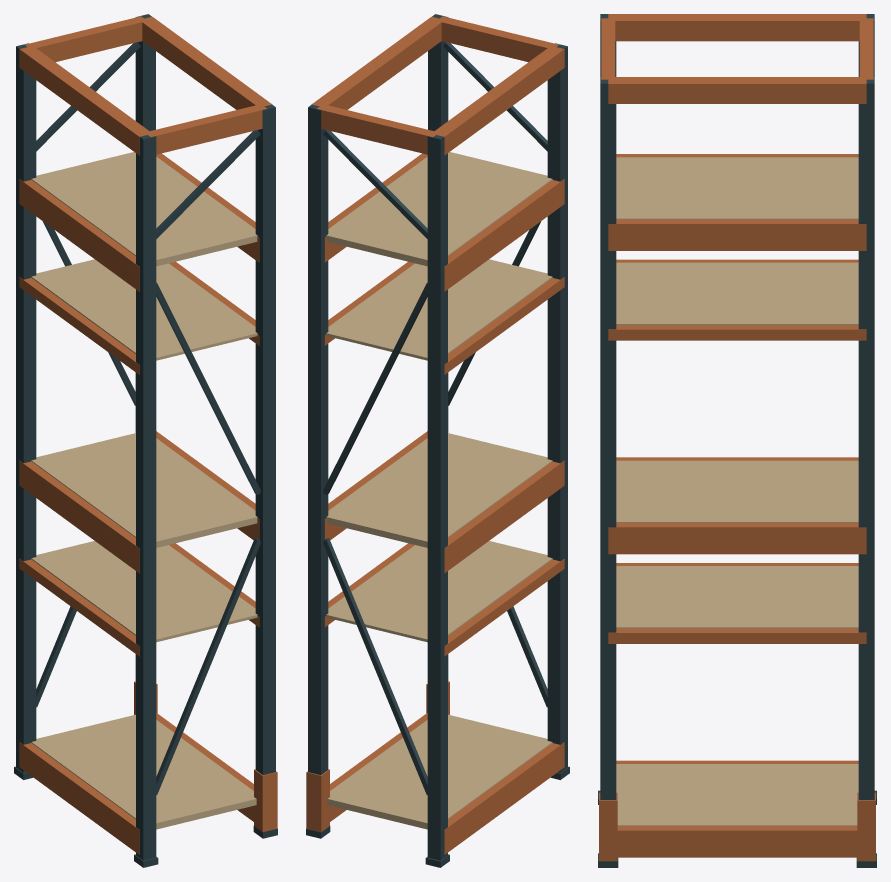
The model's file is rack-low.glb.
3 renders of one model, left to right at view 1: azimuth 30°, elevation 25°; view 2: azimuth 150°, elevation 25°; view 3: azimuth 270°, elevation 25°, orthographic. The views are drawn at different scales.
Parts seen in each view (by area): view 1: rack-low__material_00, rack-low__material_01, rack-low__material_02; view 2: rack-low__material_00, rack-low__material_01, rack-low__material_02; view 3: rack-low__material_00, rack-low__material_02, rack-low__material_01.
Part boxes in pixels (x1,y1,x2,y2): rack-low__material_00: (31, 152, 257, 829); rack-low__material_01: (14, 14, 277, 867); rack-low__material_02: (19, 16, 277, 854); rack-low__material_00: (326, 152, 552, 829); rack-low__material_01: (306, 14, 569, 867); rack-low__material_02: (306, 16, 564, 854); rack-low__material_00: (616, 157, 858, 826); rack-low__material_02: (599, 14, 875, 861); rack-low__material_01: (598, 14, 876, 867).
Bounding box in the file's own units: 0.9 × 4.65 × 1.5.
